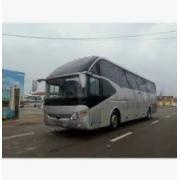bus: (38, 55, 158, 132)
